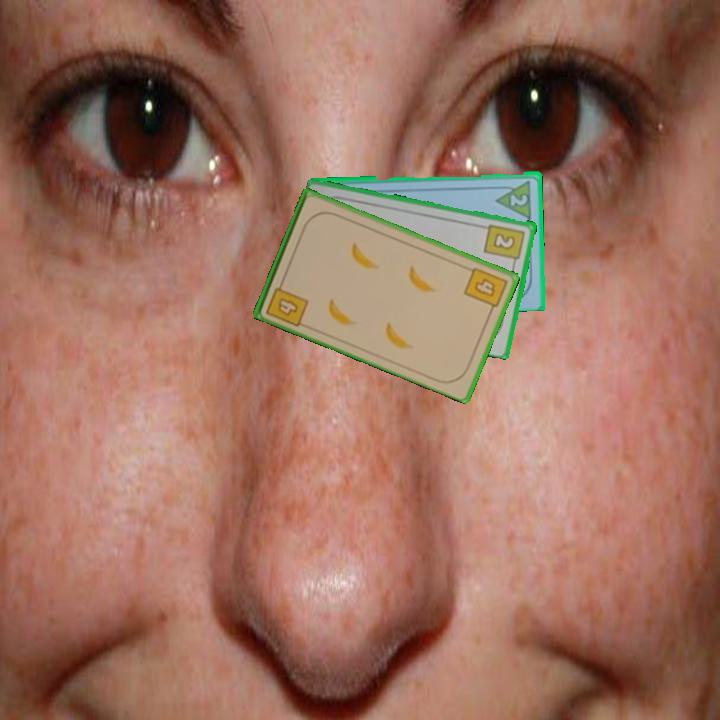2b: (481, 221, 528, 268)
2p: (507, 189, 530, 208)
4b: (460, 263, 510, 316), (262, 276, 311, 329)
